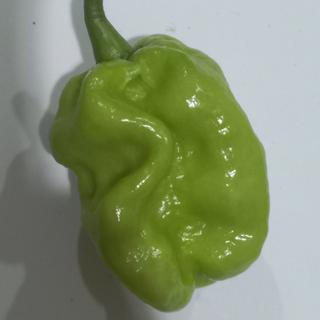Grade-A: (44, 29, 274, 314)
